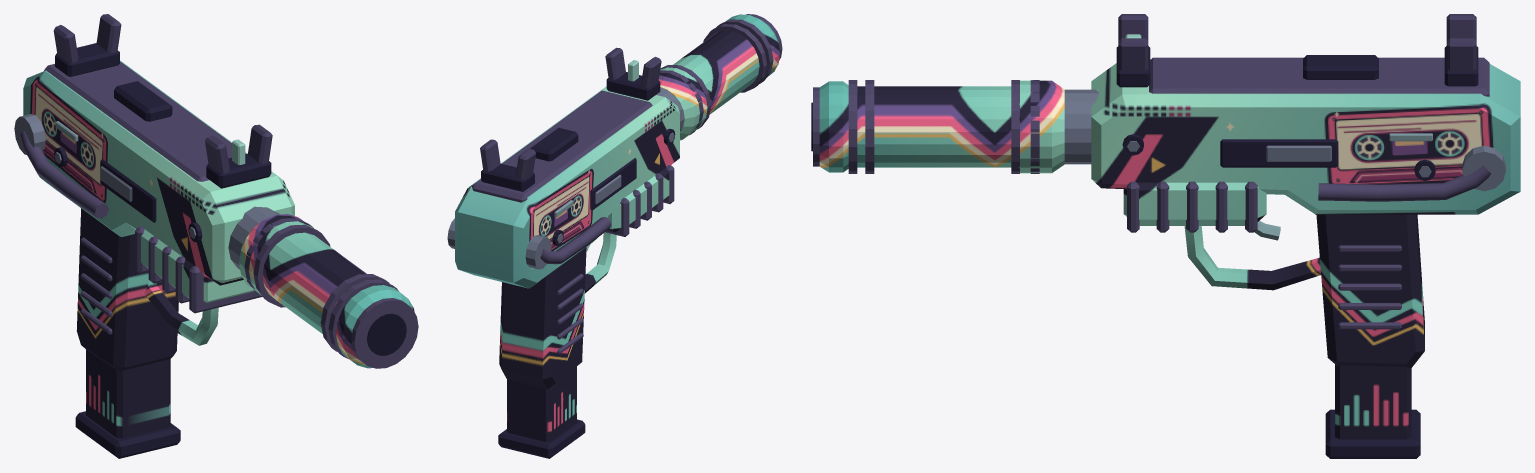
File: Uzi_Mixtape.glb
3 renders of one model, left to right at view 1: azimuth 30°, elevation 25°; view 2: azimuth 150°, elevation 25°; view 3: azimuth 270°, elevation 25°, orthographic. The views are drawn at different scales.
Parts seen in each view (by area): view 1: Main, Suppressor, Magazine, Stock; view 2: Main, Suppressor, Magazine, Stock; view 3: Main, Suppressor, Magazine, Stock.
Boxes of the visible parts, bbox=[...] form: Main: bbox=[23, 14, 294, 371]; Suppressor: bbox=[228, 206, 418, 368]; Magazine: bbox=[75, 349, 180, 458]; Stock: bbox=[14, 114, 108, 218]; Main: bbox=[455, 47, 679, 389]; Suppressor: bbox=[656, 14, 782, 140]; Magazine: bbox=[498, 366, 585, 458]; Stock: bbox=[447, 217, 611, 269]; Main: bbox=[1091, 14, 1520, 368]; Suppressor: bbox=[811, 80, 1099, 173]; Magazine: bbox=[1325, 364, 1420, 458]; Stock: bbox=[1318, 145, 1505, 201].
Size of the model in its own units: 0.5299 by 1.64 by 2.53.
1 material, 1 textured.
